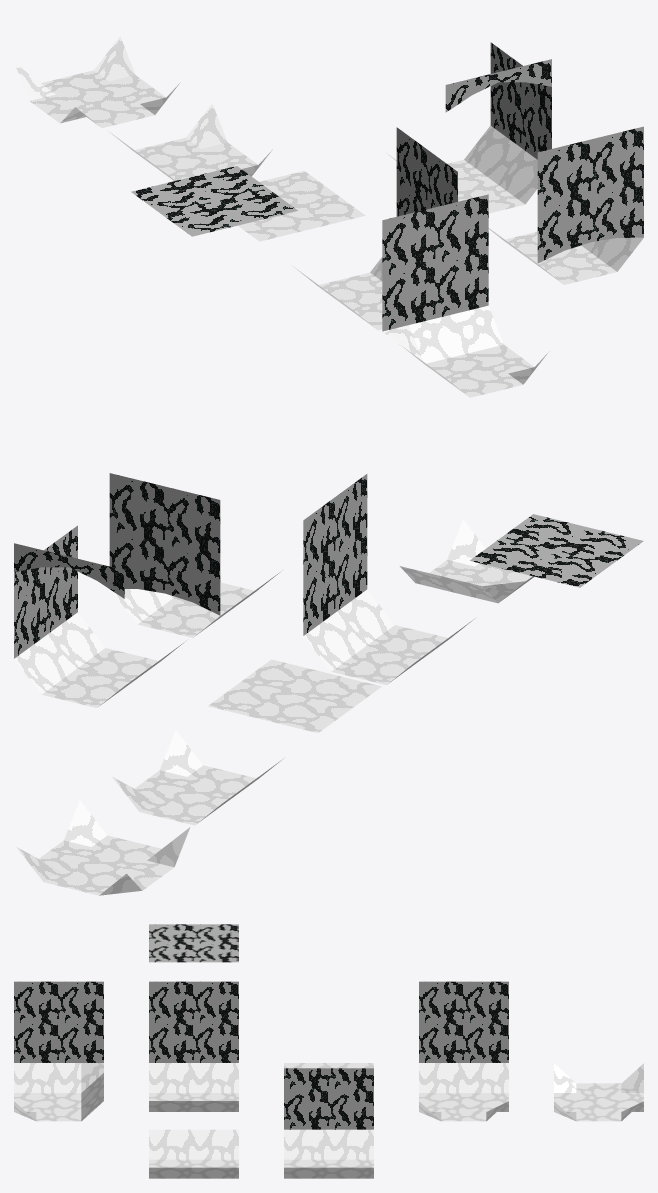
File: shining_set.glb
The picture shows the model from 3 angles, top to bottom: view 1: azimuth 30°, elevation 25°; view 2: azimuth 150°, elevation 25°; view 3: azimuth 270°, elevation 25°; orthographic projection. The views are drawn at different scales.
Parts seen in each view (by area): view 1: corner-col, hole-col, arc-col, crossing-col, roof, floor-col, t-col, Plane; view 2: hole-col, floor-col, arc-col, crossing-col, roof, Plane, t-col, corner-col; view 3: t-col, corner-col, floor-col, arc-col, hole-col, crossing-col, roof, Plane.
Part boxes in pixels (left/top/right/bottom): corner-col: left=382, top=194, right=549, bottom=397; hole-col: left=488, top=126, right=643, bottom=284; arc-col: left=388, top=42, right=551, bottom=213; crossing-col: left=14, top=36, right=180, bottom=127; roof: left=131, top=166, right=297, bottom=236; floor-col: left=293, top=127, right=457, bottom=330; t-col: left=108, top=103, right=272, bottom=180; Plane: left=238, top=171, right=365, bottom=241; hole-col: left=109, top=473, right=282, bottom=637; floor-col: left=303, top=474, right=475, bottom=685; arc-col: left=14, top=525, right=186, bottom=707; crossing-col: left=16, top=800, right=190, bottom=895; roof: left=470, top=514, right=643, bottom=587; Plane: left=208, top=659, right=381, bottom=732; t-col: left=112, top=730, right=283, bottom=825; corner-col: left=399, top=519, right=534, bottom=603; t-col: left=419, top=981, right=508, bottom=1121; corner-col: left=14, top=981, right=103, bottom=1121; floor-col: left=149, top=981, right=238, bottom=1111; arc-col: left=284, top=1068, right=373, bottom=1178; hole-col: left=149, top=1129, right=238, bottom=1178; crossing-col: left=554, top=1063, right=643, bottom=1121; roof: left=149, top=924, right=238, bottom=962; Plane: left=284, top=1063, right=373, bottom=1068.
Size of the model in its own units: 17 by 5 by 28.
Materials: 3 (3 with a texture image).
